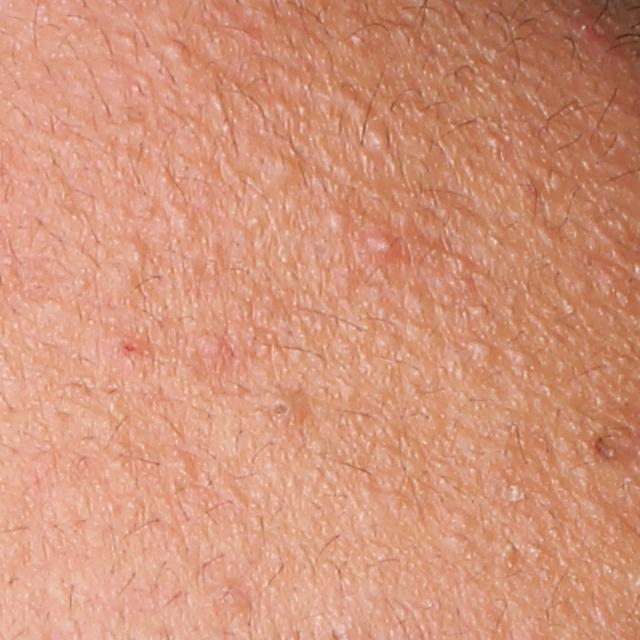comedo: (265, 150, 306, 186), (466, 336, 495, 363), (163, 452, 193, 478), (266, 397, 292, 422), (511, 344, 537, 368), (362, 129, 385, 156), (342, 23, 366, 48), (164, 40, 186, 66), (482, 132, 505, 155), (125, 241, 144, 267), (465, 303, 492, 321)
papule: (568, 4, 618, 51), (364, 221, 406, 263)
